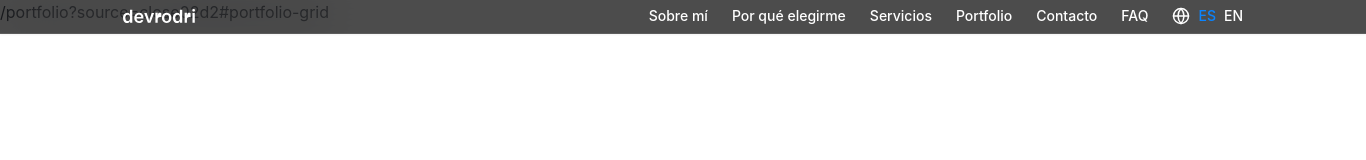
Test case: Navbar no-JavaScript fallback › keeps the active selector query and hash behavior unchanged
Click the button with aria-label "Cambiar a inglés".
click(1234, 16)  # box x1=1224 y1=6 x2=1243 y2=26
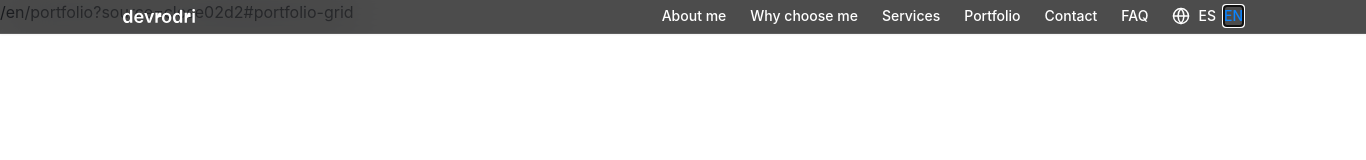
Expected: the text with test id "location" reads "/en/portfolio?source=close02d2#portfolio-grid", x1=0 y1=2 x2=354 y2=22
